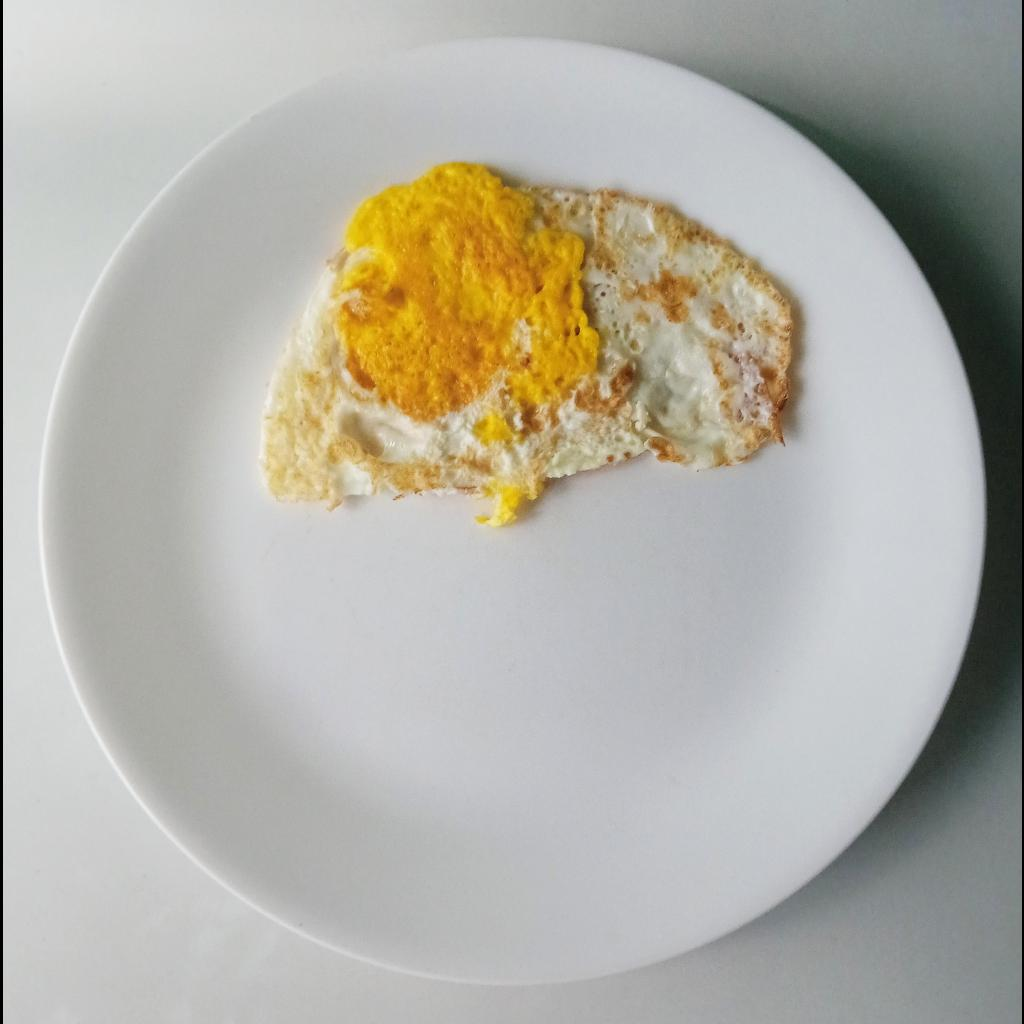egg-poached: (261, 158, 796, 522)
